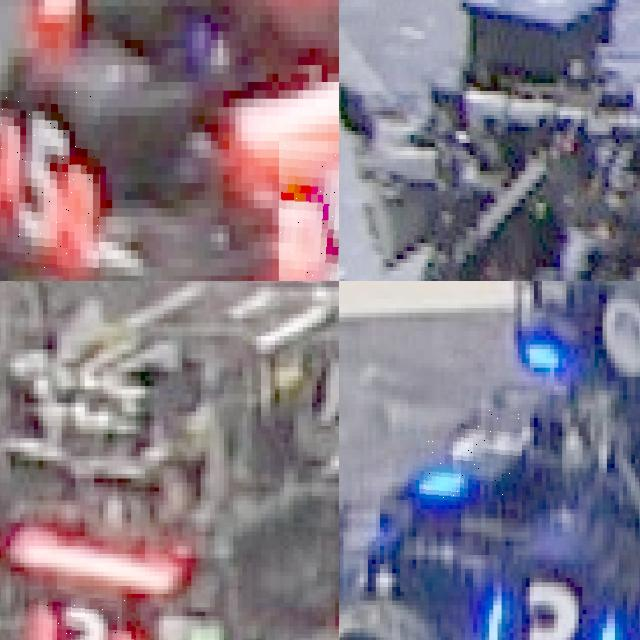B3: (408, 408, 522, 504), (477, 568, 619, 640)
R2: (29, 598, 135, 640)
R5: (0, 90, 100, 267), (278, 141, 339, 281)
